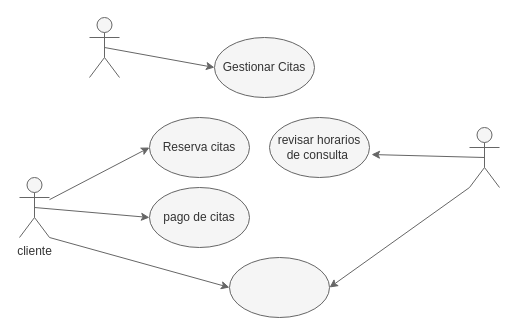
The diagram is 521 pixels wide and 335 high, and some of its shapes have lost their labels. The centre of each missing label's shape, as x and y in pixels:
Administracion: (104,47)
Medico: (484,157)
notificación de citas: (279,287)
